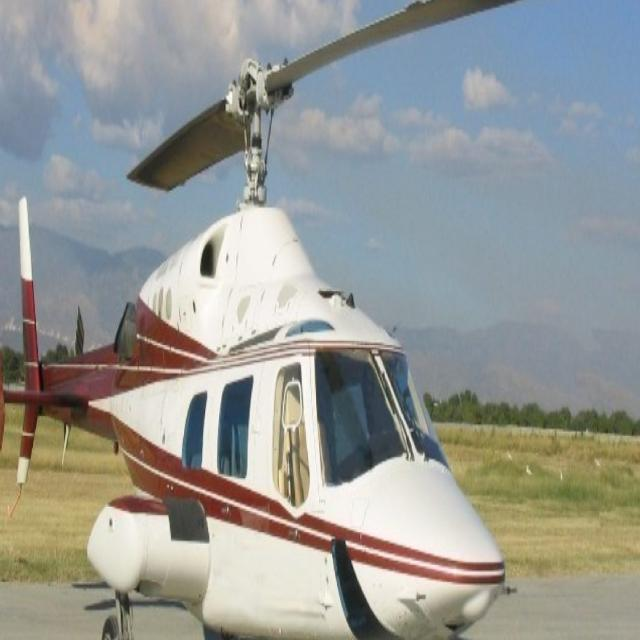helicopter: (1, 1, 574, 640)
